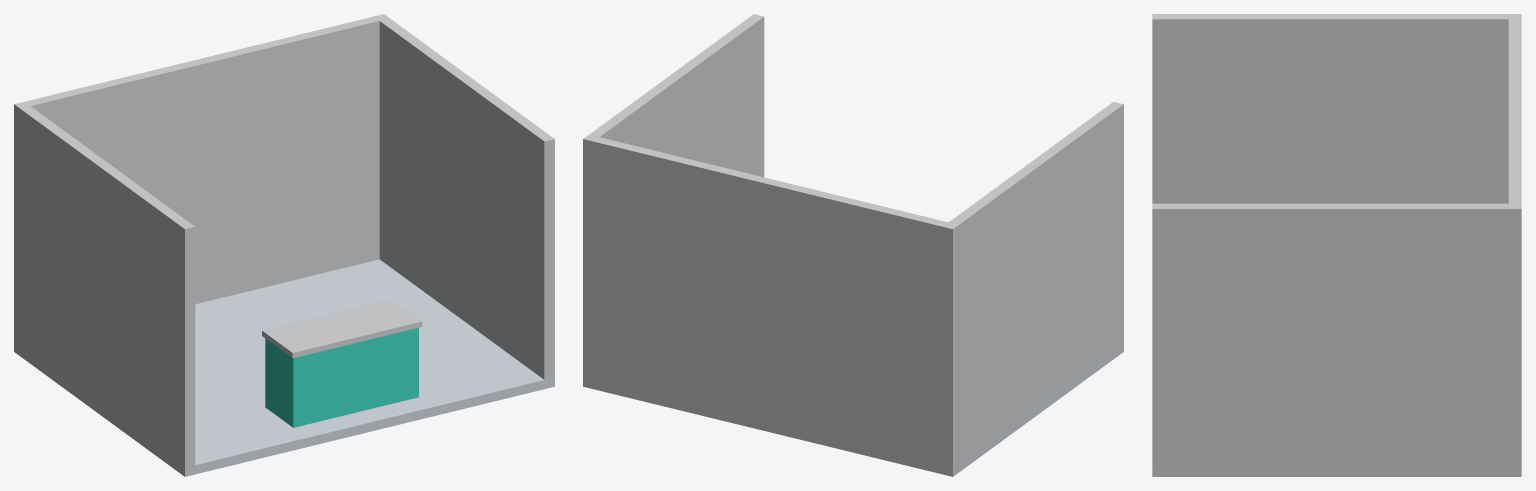
The picture shows the model from 3 angles, left to right: view 1: azimuth 30°, elevation 25°; view 2: azimuth 150°, elevation 25°; view 3: azimuth 270°, elevation 25°; orthographic projection. The views are drawn at different scales.
Parts seen in each view (by area): view 1: Exhibition Booth Concept; view 2: Exhibition Booth Concept; view 3: Exhibition Booth Concept.
Boxes of the visible parts, x1=… form: Exhibition Booth Concept: x1=14, y1=14, x2=554, y2=476; Exhibition Booth Concept: x1=583, y1=14, x2=1123, y2=476; Exhibition Booth Concept: x1=1152, y1=14, x2=1521, y2=476.
Size of the model in its own units: 5 by 3.2 by 4.
